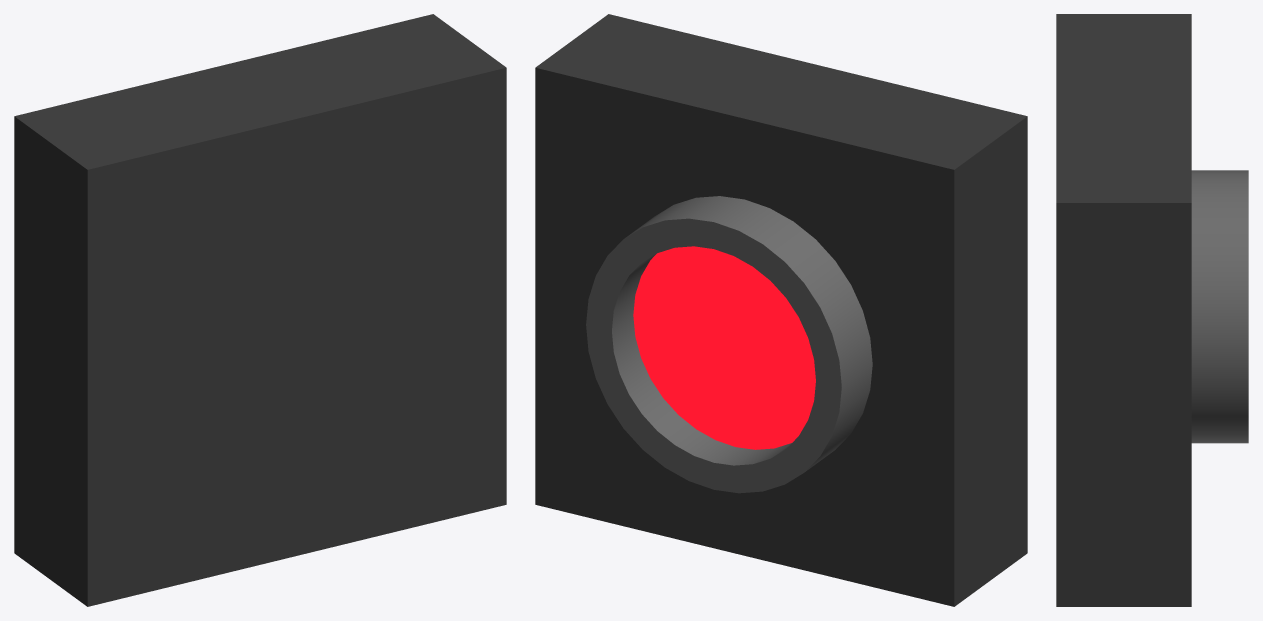
The model's file is gate_switch.fbx.
3 renders of one model, left to right at view 1: azimuth 30°, elevation 25°; view 2: azimuth 150°, elevation 25°; view 3: azimuth 270°, elevation 25°, orthographic. The views are drawn at different scales.
Visible parts, largest first — view 1: gate switch; view 2: gate switch; view 3: gate switch.
Part boxes in pixels (x1,y1,x2,y2): gate switch: (14, 14, 506, 606); gate switch: (535, 14, 1027, 606); gate switch: (1056, 14, 1248, 606).
Size of the model in its own units: 141 by 328 by 327.
